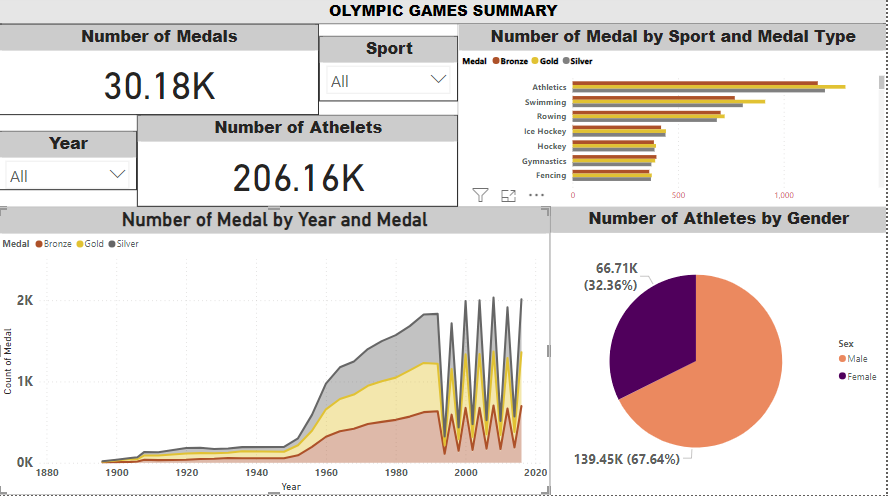

This screenshot's page, from the dashboard's own definition file:
{"tool":"powerbi","page":{"name":"Page 1","canvas":[1280,720],"ordinal":0},"visuals":[{"type":"ribbonChart","title":"Number of Medal by Year and Medal","fields":{"Category":["Olympics_Data.Year"],"Y":["CountNonNull(Olympics_Data.Medal)"],"Series":["Olympics_Data.Medal"]},"box":[0,306.3,795.6,411.1],"z":0},{"type":"slicer","title":"Athlete Name","fields":{"Values":["Olympics_Data.Name"]},"box":[0,41.8,200.2,103.7],"z":1000},{"type":"slicer","title":"Year","fields":{"Values":["Olympics_Data.Year"]},"box":[0,144.8,199.7,84.9],"z":2000},{"type":"slicer","title":"Sport","fields":{"Values":["Olympics_Data.Sport"]},"box":[0,229.7,199.7,76.6],"z":3000},{"type":"actionButton","box":[0,0,45.9,19.7],"z":4000},{"type":"clusteredBarChart","title":"Number of Medal by Sport and Medal Type","fields":{"Category":["Olympics_Data.Sport","Olympics_Data.Medal"],"Y":["CountNonNull(Olympics_Data.Medal)"],"Series":["Olympics_Data.Medal"]},"box":[662.4,41.8,617.8,263.5],"z":5000},{"type":"card","title":"Number of Medals","fields":{"Values":["Olympics_Data.Measure"]},"box":[200.2,41.8,462.2,131],"z":6000},{"type":"card","title":"Number of Athelets","fields":{"Values":["Country_Names.Measure 2"]},"box":[200.2,172.8,462.2,132.5],"z":7000},{"type":"donutChart","title":"Number of Athletes by Gender","fields":{"Category":["Olympics_Data.Sex"],"Y":["CountNonNull(Olympics_Data.Sex)"]},"box":[794.9,305.3,485.3,411.8],"z":8000},{"type":"slicer","title":"OLYMPIC GAMES SUMMARY","fields":{"Values":["Olympics_Data.Age"]},"box":[0,5.8,1280.2,36],"z":9000}]}

Visuals, with their boxes in screenshot pixels (x1, y1, x2, y2), scaled from the page's 1280x720 canvas onto the 888x496 screenshot:
"Number of Medal by Year and Medal" ribbonChart: 0/211/552/494
"Athlete Name" slicer: 0/29/139/100
"Year" slicer: 0/100/139/158
"Sport" slicer: 0/158/139/211
actionButton: 0/0/32/14
"Number of Medal by Sport and Medal Type" clusteredBarChart: 460/29/887/210
"Number of Medals" card: 139/29/460/119
"Number of Athelets" card: 139/119/460/210
"Number of Athletes by Gender" donutChart: 551/210/887/494
"OLYMPIC GAMES SUMMARY" slicer: 0/4/887/29
